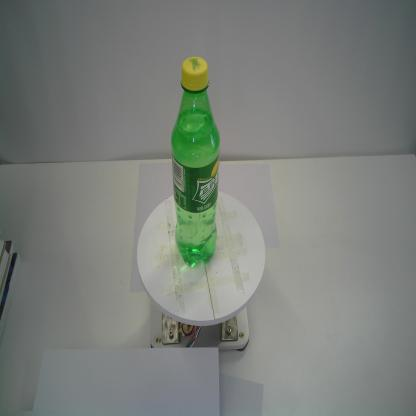Drink: (170, 55, 221, 268)
